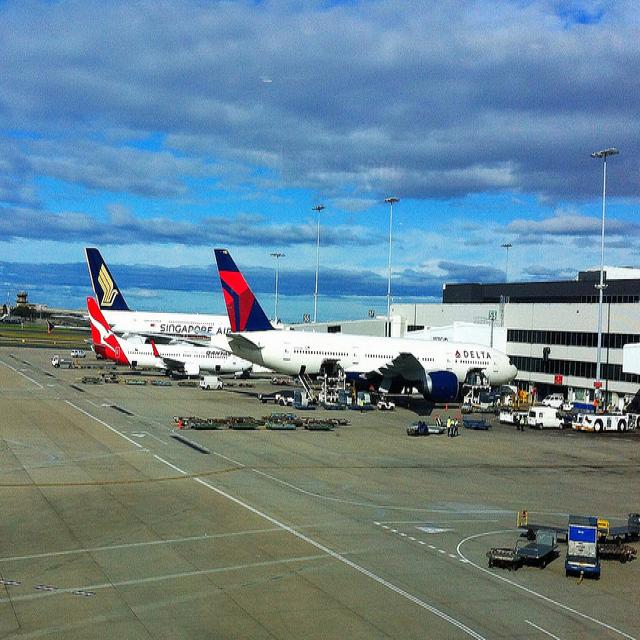Vehicle: (566, 525, 600, 579), (572, 411, 628, 431), (528, 406, 564, 430), (406, 420, 427, 437), (52, 354, 74, 369), (542, 394, 564, 408), (201, 376, 223, 388)
